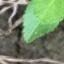Prickly Sida: (7, 0, 64, 64)
